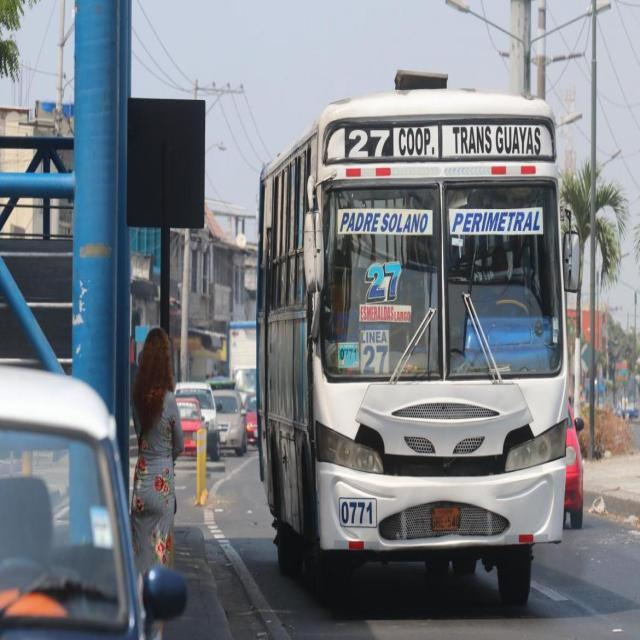BUS: (258, 86, 576, 593)
